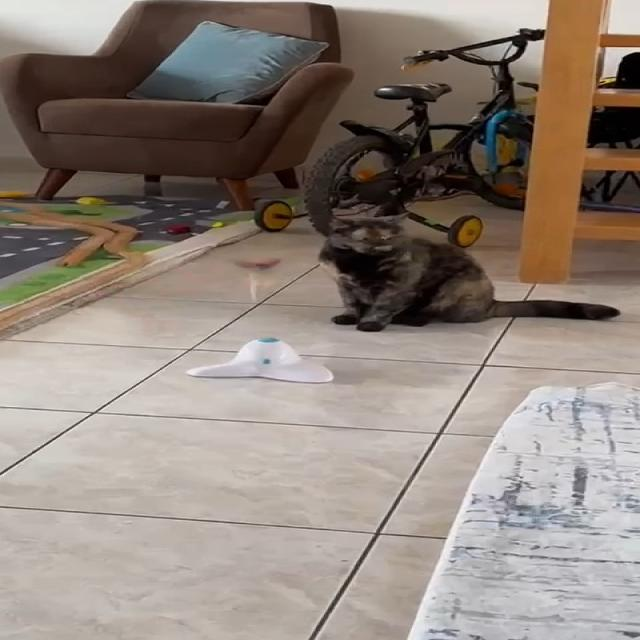authorized: (316, 213, 620, 332)
